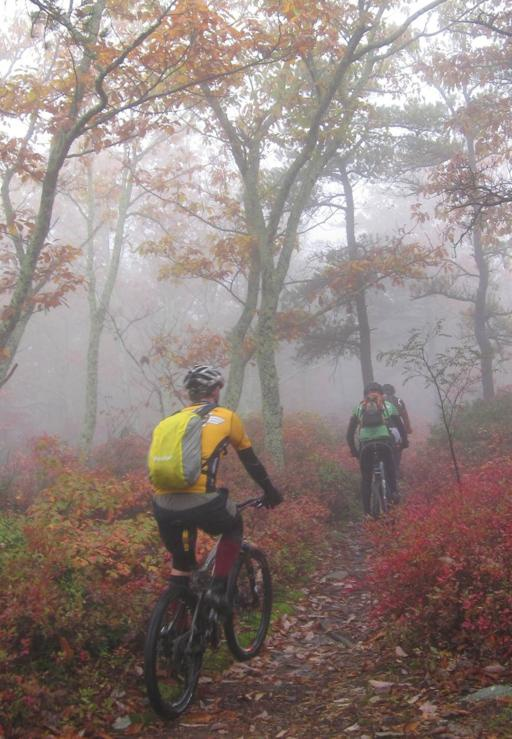non-vehicle: (142, 495, 272, 721), (353, 442, 407, 518)
